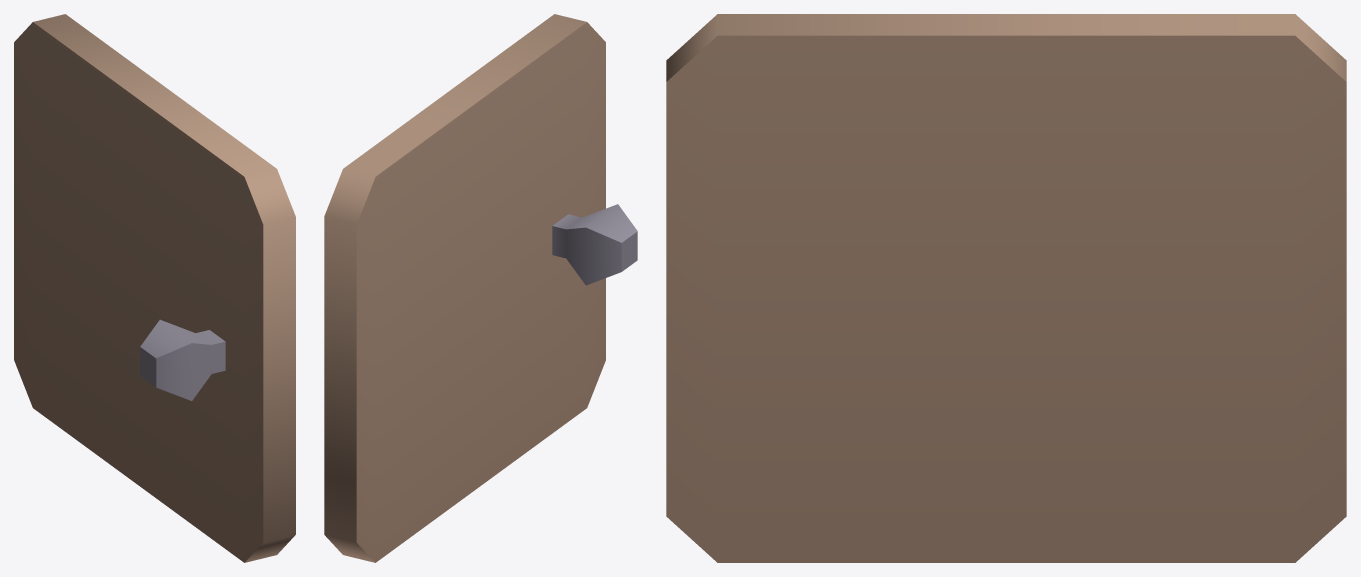
Rendered from (%no-merge) (%low) (%open-left).glb.
3 views of the same model, side by side, from view 1: azimuth 30°, elevation 25°; view 2: azimuth 150°, elevation 25°; view 3: azimuth 270°, elevation 25° (orthographic). The views are drawn at different scales.
Visible parts, largest first — view 1: (%no-merge) (%low) (%open-left); view 2: (%no-merge) (%low) (%open-left); view 3: (%no-merge) (%low) (%open-left).
Part boxes in pixels (x1=…): (%no-merge) (%low) (%open-left): x1=14, y1=14, x2=295, y2=562; (%no-merge) (%low) (%open-left): x1=324, y1=14, x2=637, y2=562; (%no-merge) (%low) (%open-left): x1=666, y1=14, x2=1346, y2=562.
Bounding box in the file's own units: 0.0783 × 0.2829 × 0.3309.
